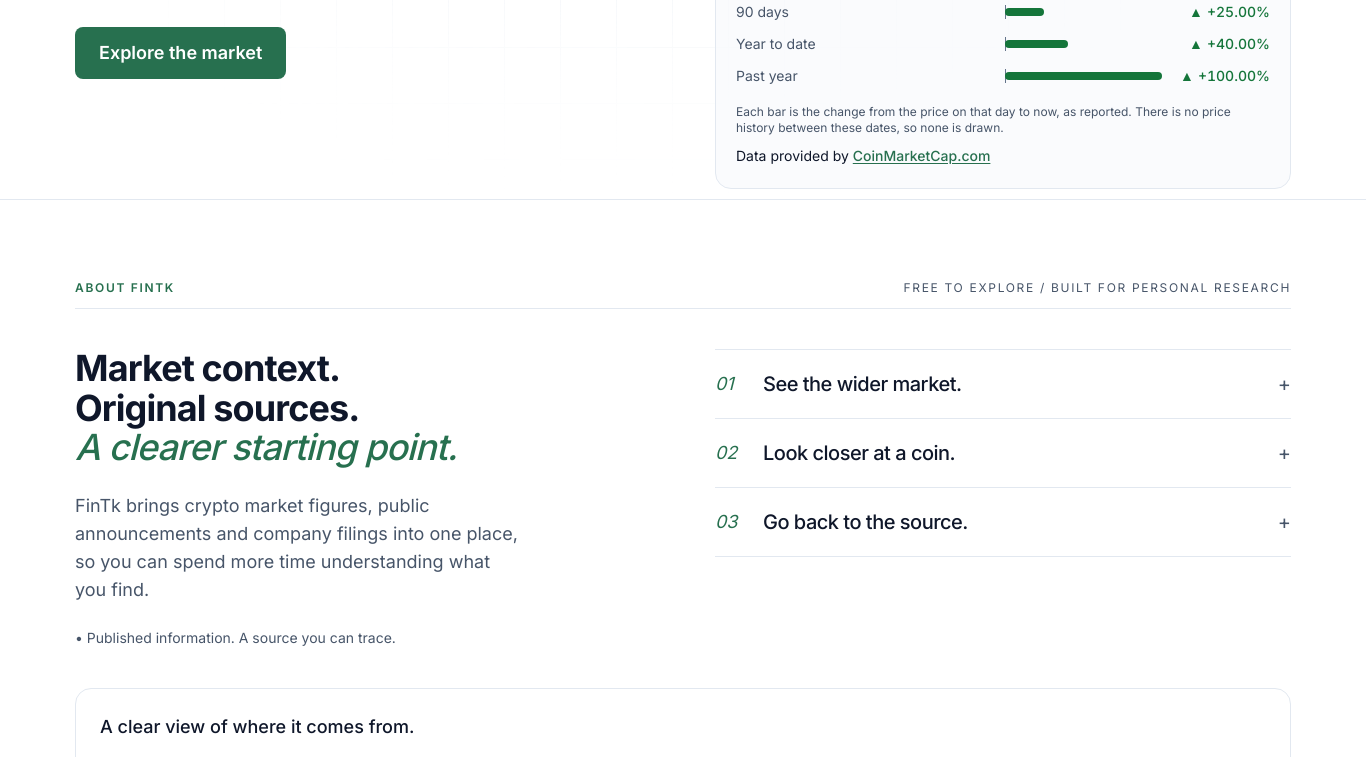
Test case: CryptoHome about section › starts closed and opens one step at a time
The width and height of the screenshot is (1366, 757).
(page scrolled)
Click the button "01 See the wider market. +". click: coordinates (862, 384)
box: [715,350,1291,418]
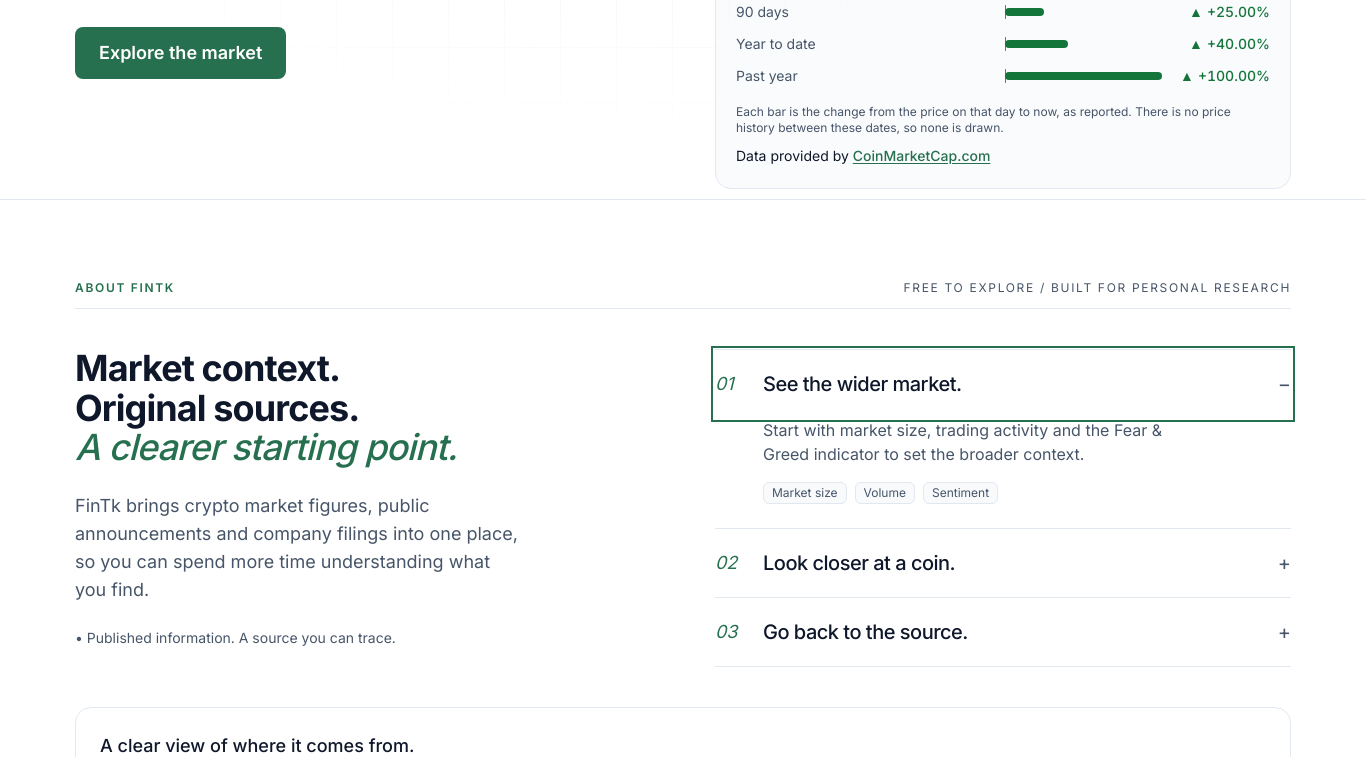
Click the button "02 Look closer at a coin. +". click: coordinates (859, 563)
box: [715,529,1291,597]
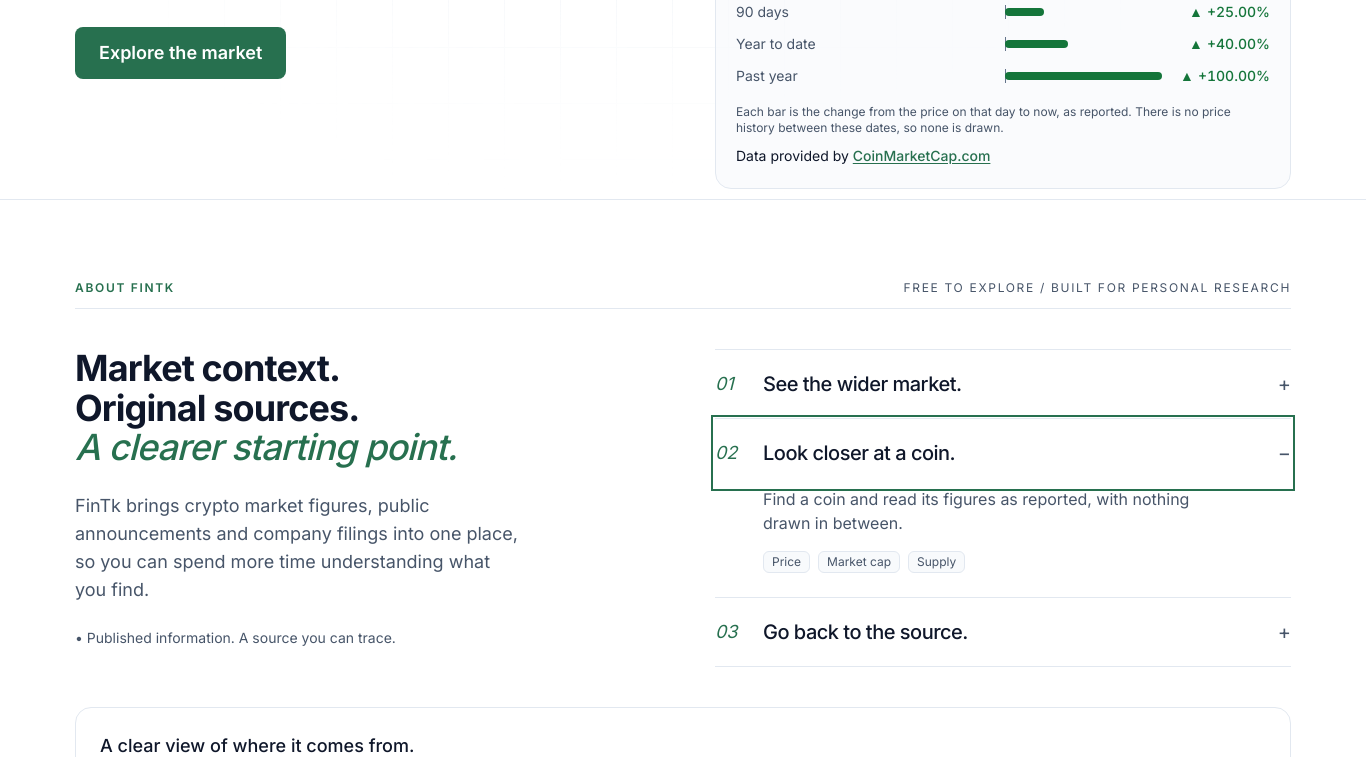
Result: the button "01 See the wider market. +" is collapsed at [715,350,1291,418]
Result: the button "02 Look closer at a coin. −" is expanded at [715,419,1291,487]
